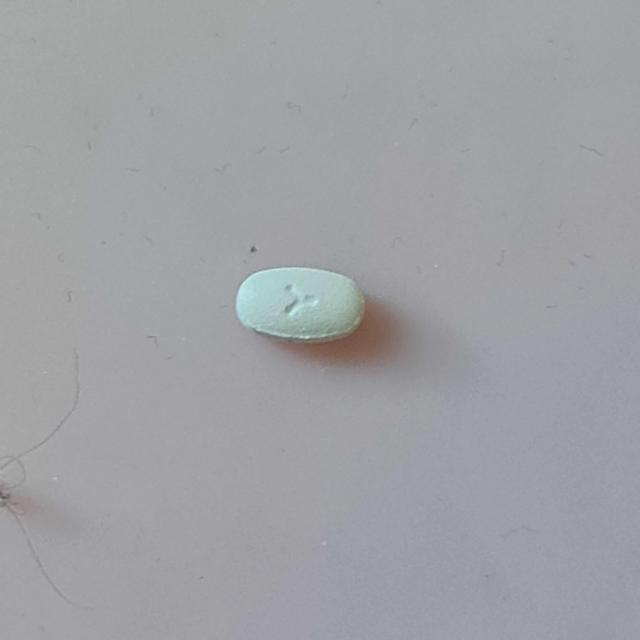pill: (238, 268, 364, 338)
